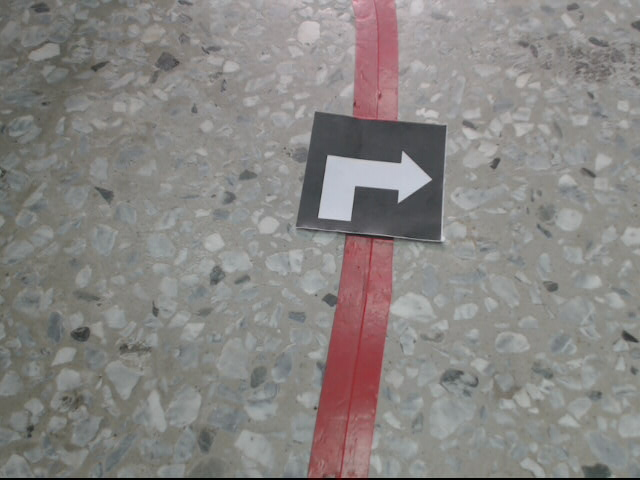right: (293, 111, 446, 243)
